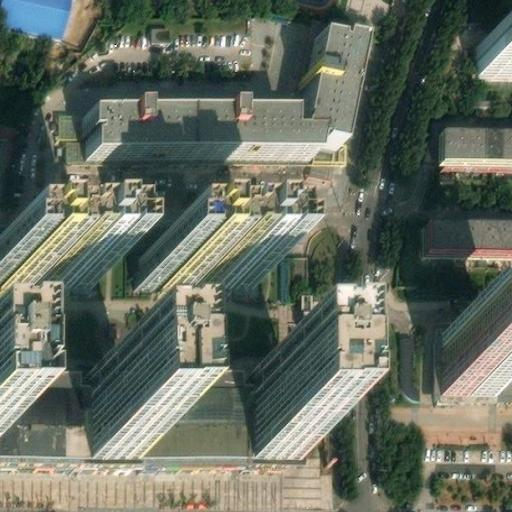building: (92, 31, 365, 152), (143, 377, 257, 463), (94, 376, 144, 462), (256, 378, 305, 464), (428, 129, 512, 171), (138, 249, 254, 279), (440, 333, 497, 387), (146, 15, 251, 42), (429, 211, 512, 244), (14, 0, 73, 34), (481, 28, 512, 64), (320, 134, 346, 152)
